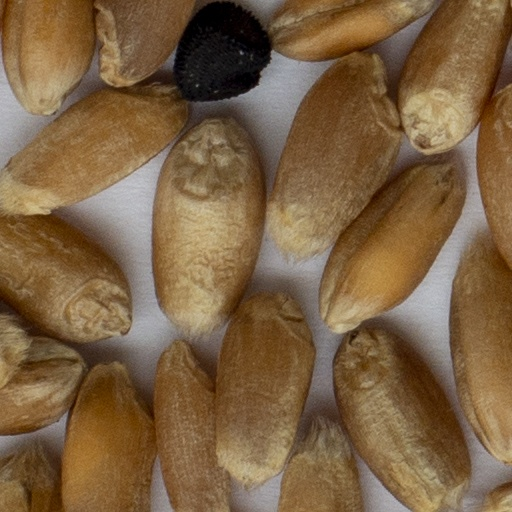Agrostemma-poly: (174, 0, 274, 103)
Wheat-grain-poly: (94, 0, 196, 88)
